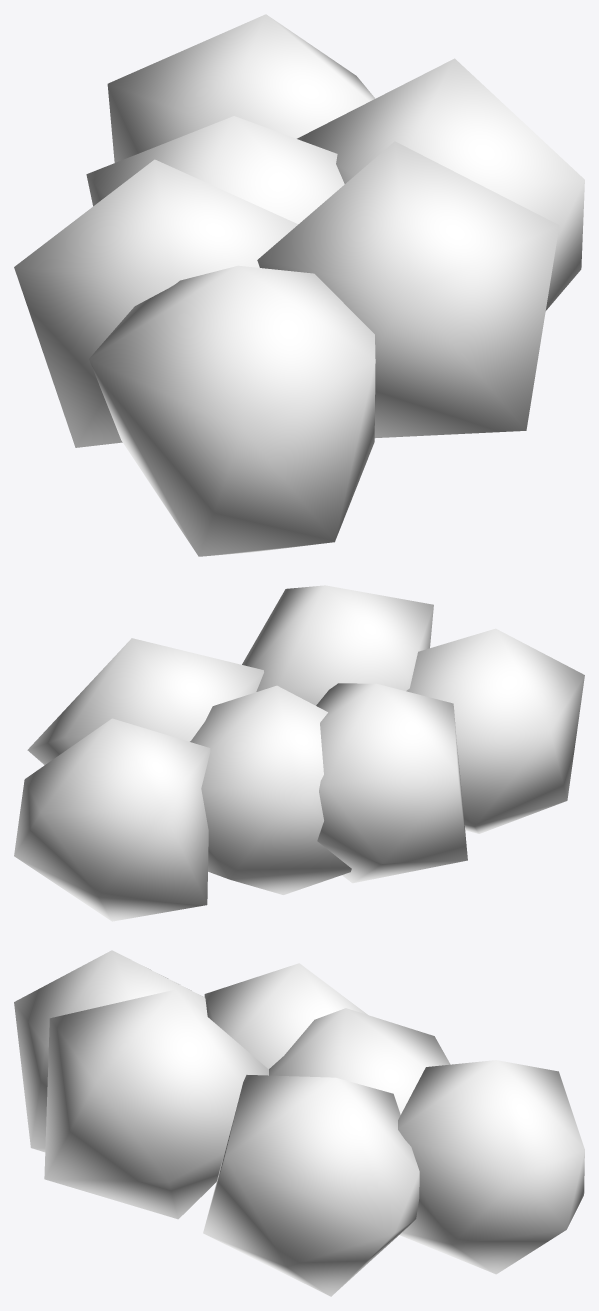
The model's file is cloud2.glb.
3 renders of one model, top to bottom at view 1: azimuth 30°, elevation 25°; view 2: azimuth 150°, elevation 25°; view 3: azimuth 270°, elevation 25°, orthographic. The views are drawn at different scales.
Visible parts, largest first — view 1: Icosphere.010; view 2: Icosphere.010; view 3: Icosphere.010.
Boxes of the visible parts, box(x1,y1,x2,y2) form: Icosphere.010: box(14, 14, 584, 556); Icosphere.010: box(14, 585, 584, 921); Icosphere.010: box(14, 950, 584, 1296).
Bounding box in the file's own units: 2.09 × 1.16 × 2.37.
1 material, 1 textured.
